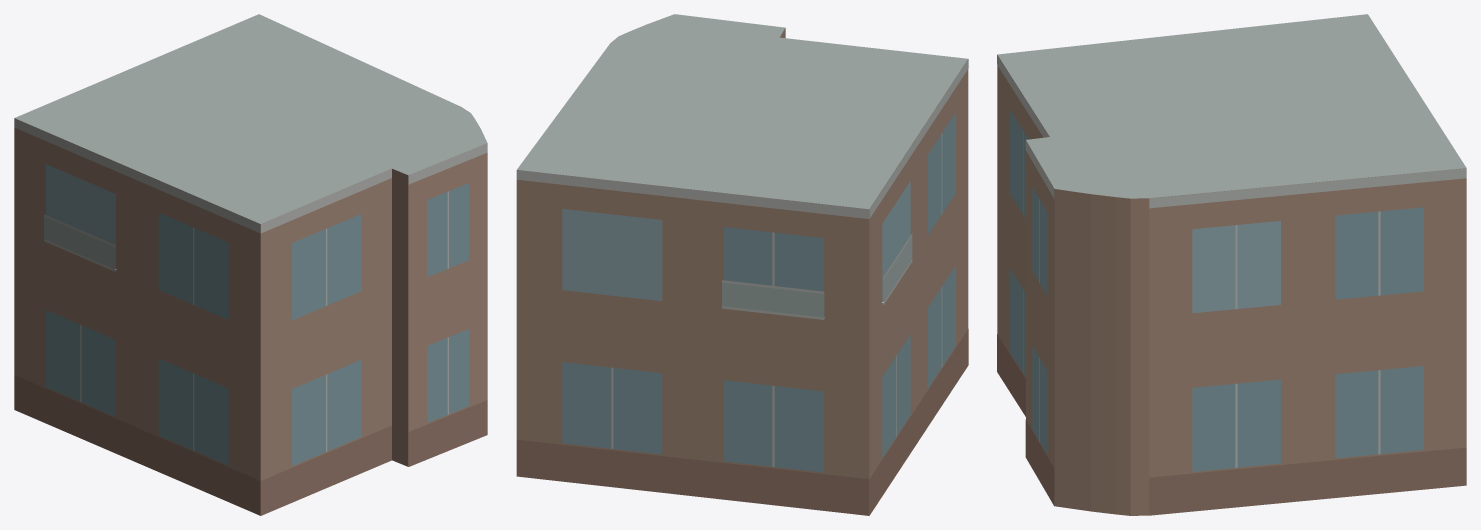
Rendered from survey-upis-32607298.glb.
3 views of the same model, side by side, from view 1: azimuth 30°, elevation 25°; view 2: azimuth 150°, elevation 25°; view 3: azimuth 270°, elevation 25° (orthographic). The views are drawn at different scales.
Parts seen in each view (by area): view 1: survey-upis-32607298.tmp; view 2: survey-upis-32607298.tmp; view 3: survey-upis-32607298.tmp.
Part boxes in pixels (left/top/right/bottom): survey-upis-32607298.tmp: left=14, top=14, right=487, bottom=515; survey-upis-32607298.tmp: left=516, top=14, right=968, bottom=515; survey-upis-32607298.tmp: left=997, top=14, right=1466, bottom=515.
Size of the model in its own units: 9.48 by 7.6 by 10.2.
